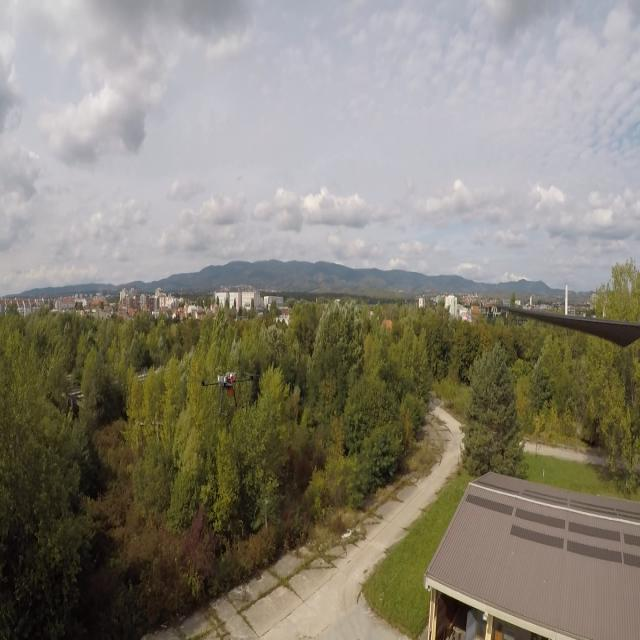UAV: (196, 362, 261, 418)
